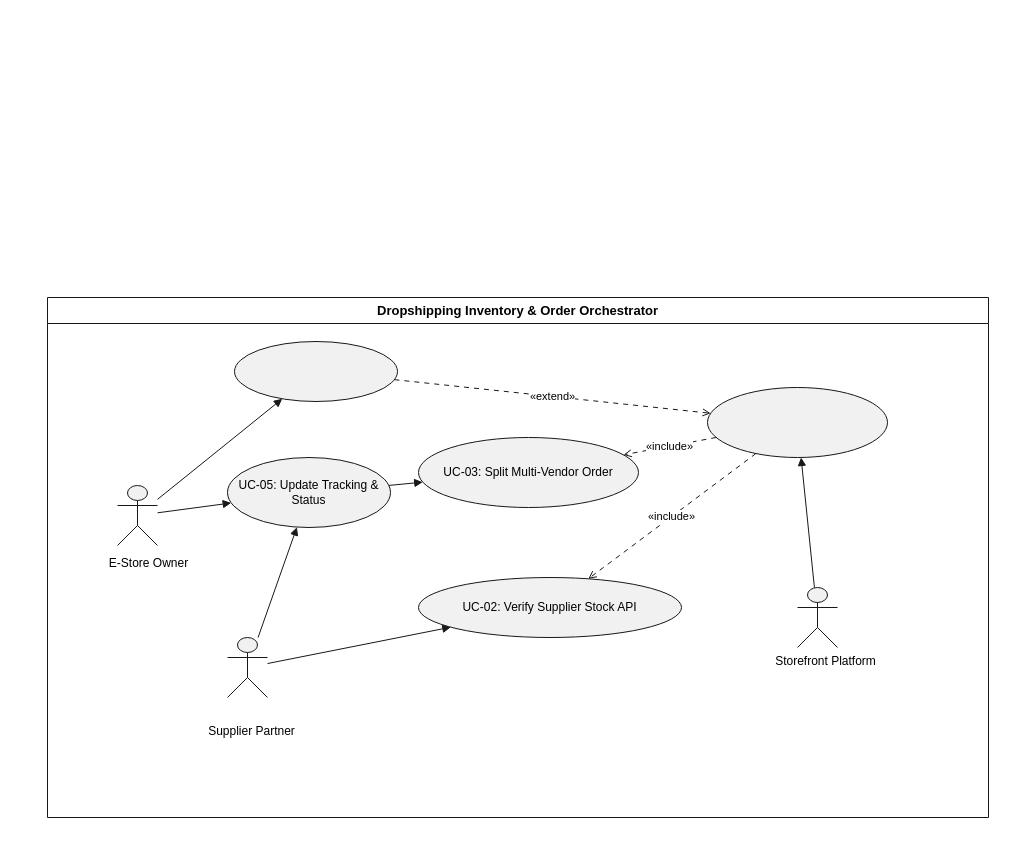
Some shapes in this 1015 by 844 pixel diagram are drawn without their labels. Each missing label, with the centre of its shape:
"UC-01: Ingest Storefront Webhook" belongs at pixel 797 422.
"UC-04: Flag Order for Manual Review" belongs at pixel 316 371.
